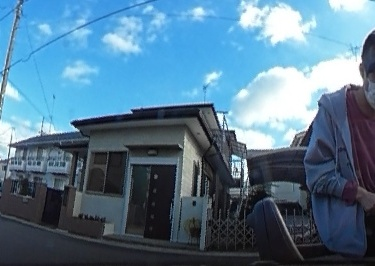person: (312, 24, 375, 249)
